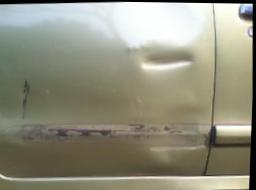Door: (0, 32, 215, 178)
